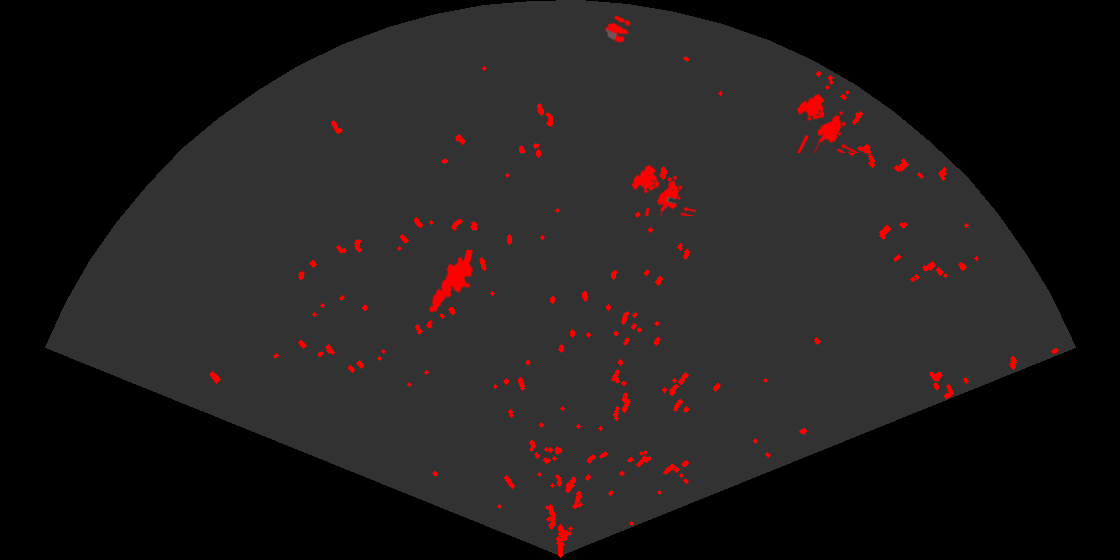ball: (604, 14, 632, 44)
cage: (795, 92, 861, 153), (629, 163, 696, 216)
frogman: (427, 250, 475, 314)
